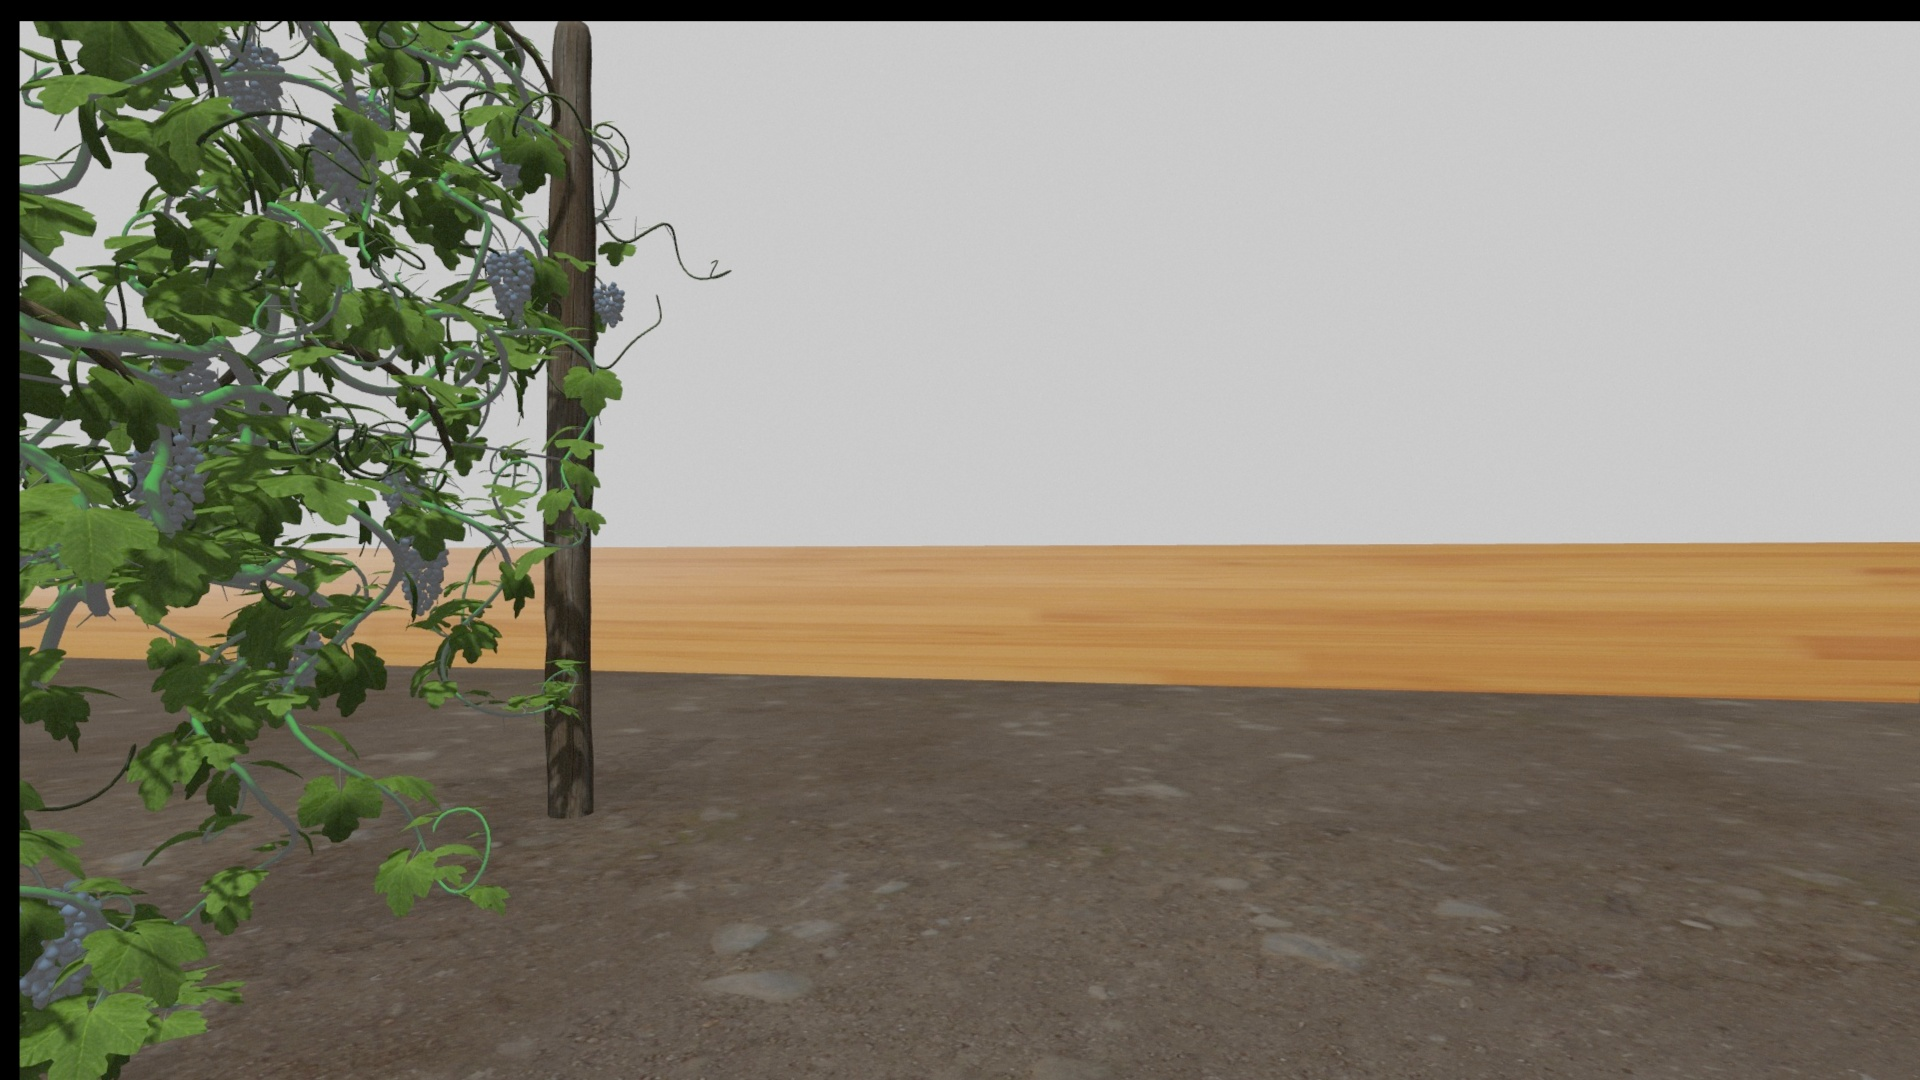grape: (127, 434, 203, 539), (219, 44, 285, 123), (305, 127, 364, 208), (394, 527, 447, 615), (485, 247, 535, 327), (593, 284, 624, 328)
